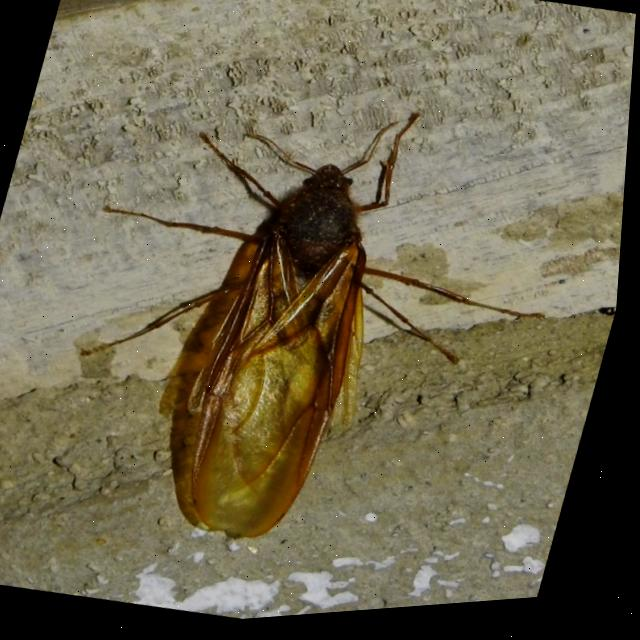Alive-Male-Alate: (22, 48, 602, 607)
